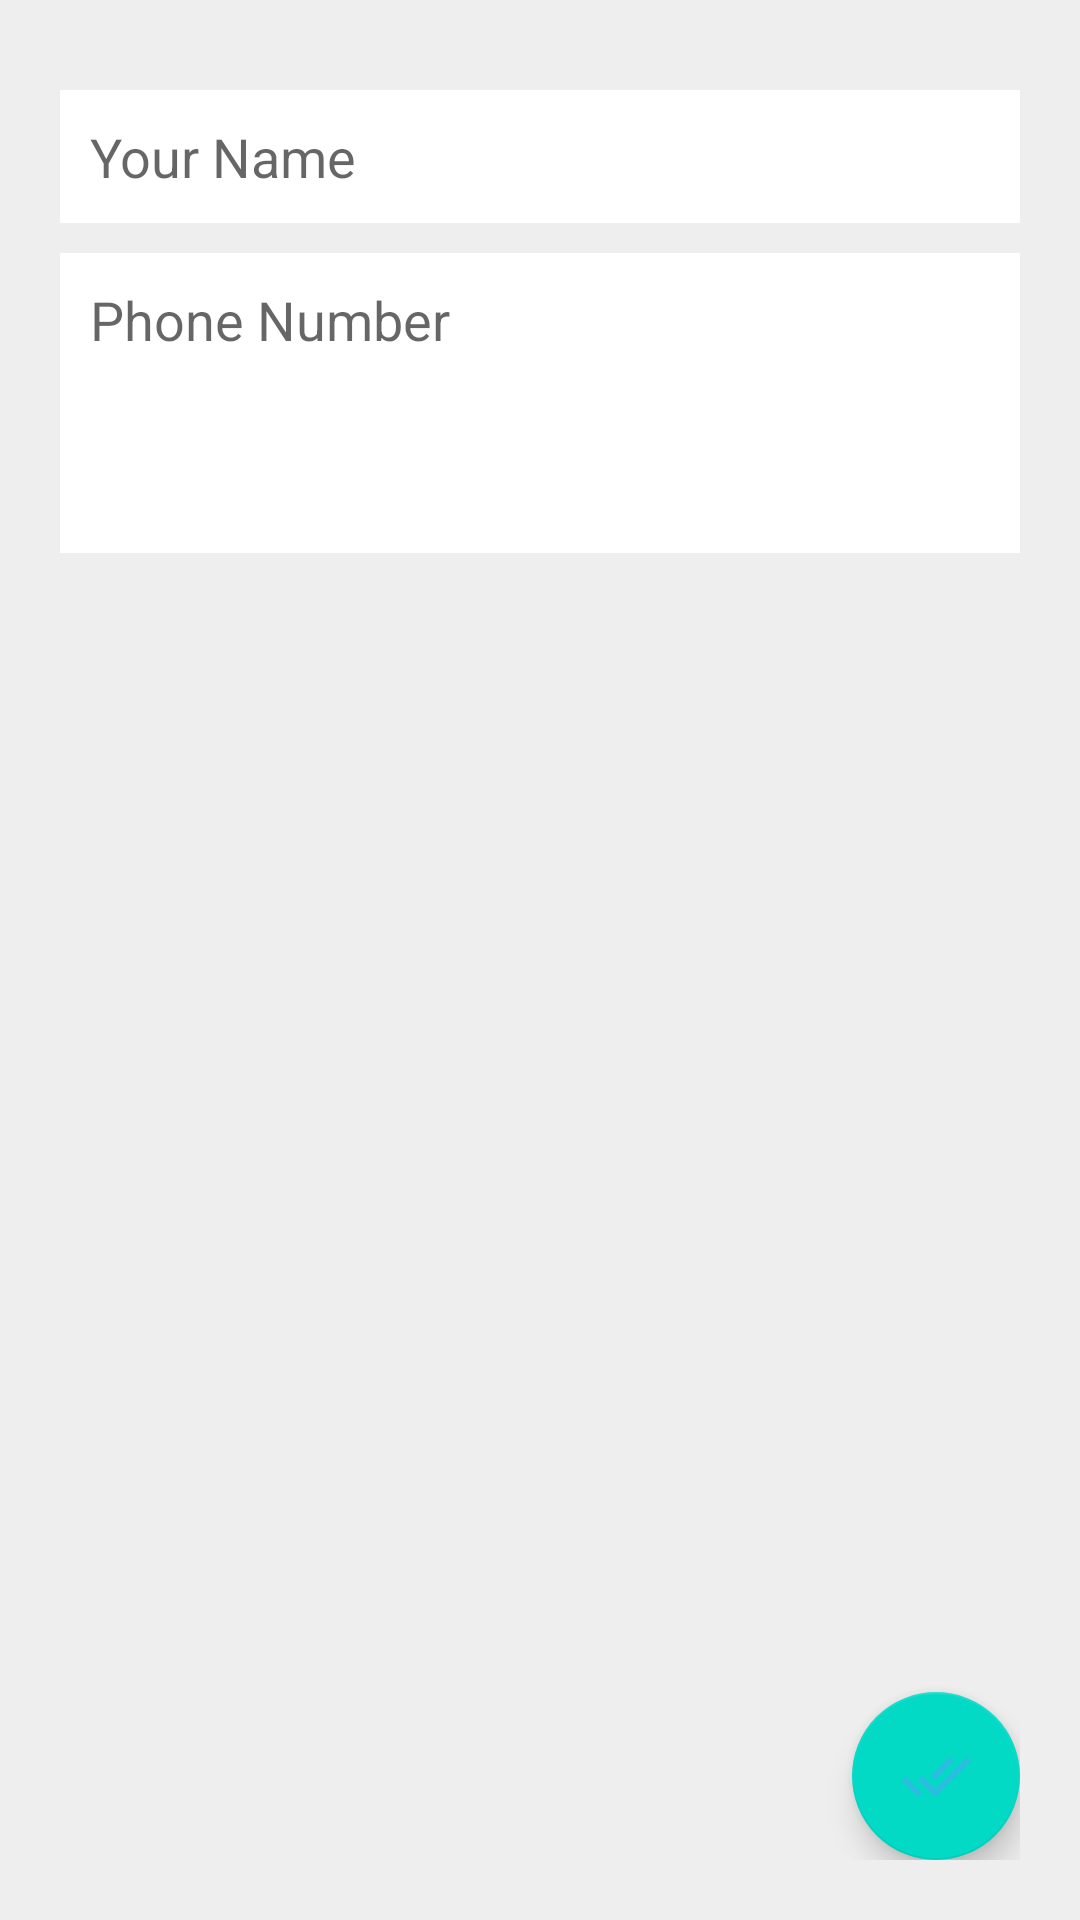

Named icons in this screenshot (1080*1920) and their bounding boxes, rect(x1, y1, x2, y2):
done: rect(852, 1692, 1020, 1860)
